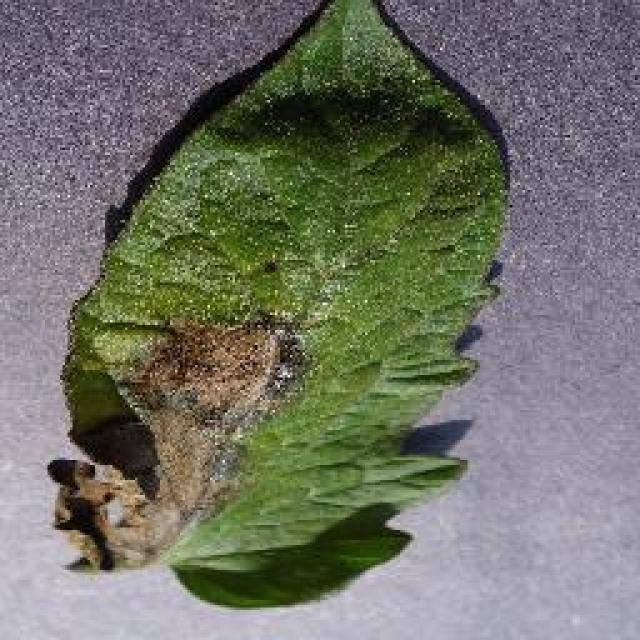Tomato late blight leaf: (50, 0, 512, 620)
